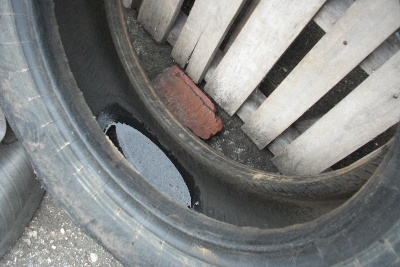tire: (1, 1, 399, 267)
